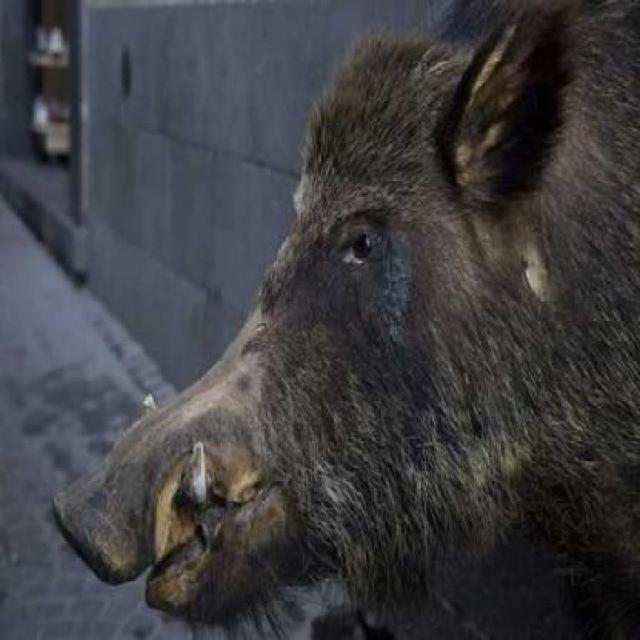pig: (66, 0, 630, 602)
